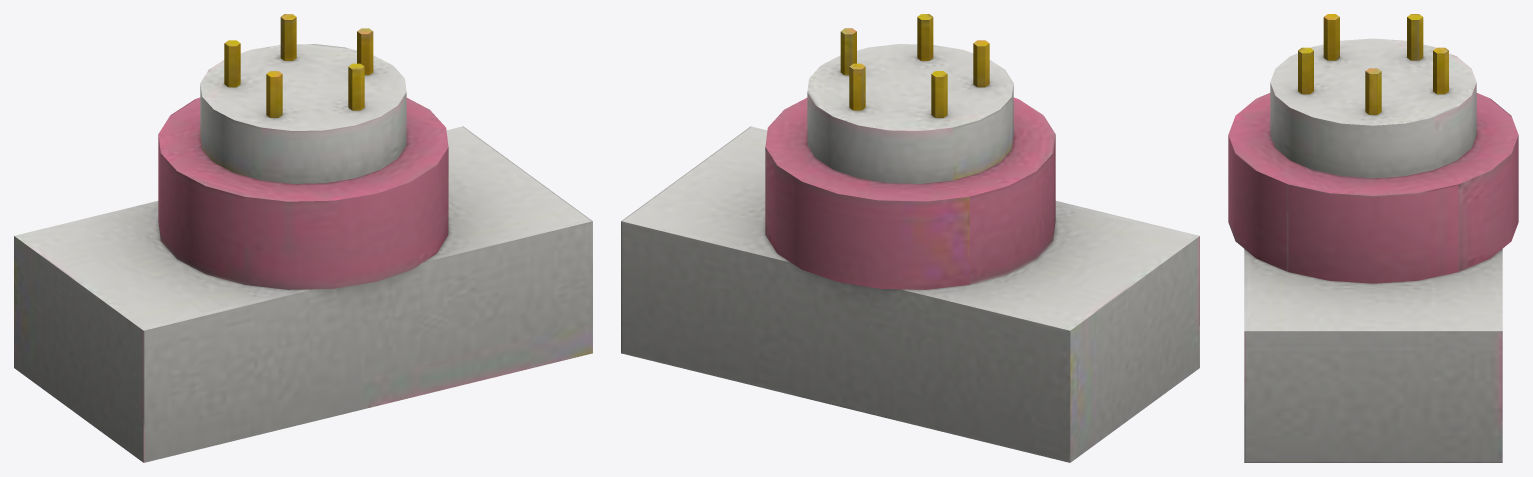
File: tarta_cumple.glb
The picture shows the model from 3 angles, left to right: view 1: azimuth 30°, elevation 25°; view 2: azimuth 150°, elevation 25°; view 3: azimuth 270°, elevation 25°; orthographic projection.
Visible parts, largest first — view 1: tarta_cumple; view 2: tarta_cumple; view 3: tarta_cumple.
Part boxes in pixels (x1=…): tarta_cumple: x1=14, y1=14, x2=592, y2=462; tarta_cumple: x1=621, y1=14, x2=1199, y2=462; tarta_cumple: x1=1228, y1=14, x2=1518, y2=462.
Bounding box in the file's own units: 1.6 × 1.07 × 0.9.
Materials: 1 (1 with a texture image).
